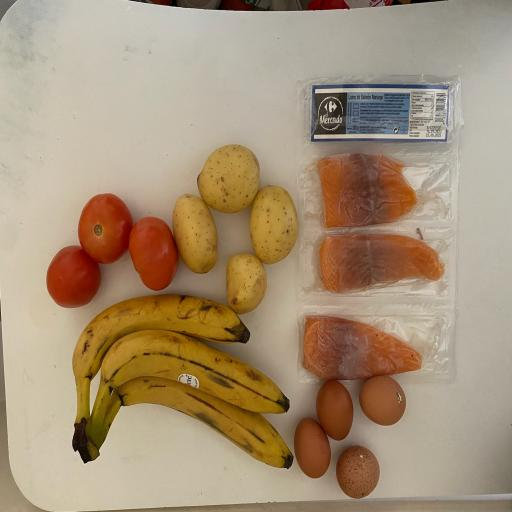banana: (70, 284, 252, 455), (78, 325, 293, 449), (83, 371, 295, 471)
egg: (292, 414, 334, 482), (358, 373, 408, 428), (314, 380, 356, 442), (335, 444, 381, 500)
potato: (196, 141, 262, 213), (249, 182, 302, 268), (173, 189, 220, 278), (224, 248, 268, 316)
salmon: (297, 312, 426, 383), (317, 229, 448, 298), (315, 150, 419, 232)
tomato: (76, 192, 135, 268), (127, 210, 180, 294), (44, 242, 104, 312)
